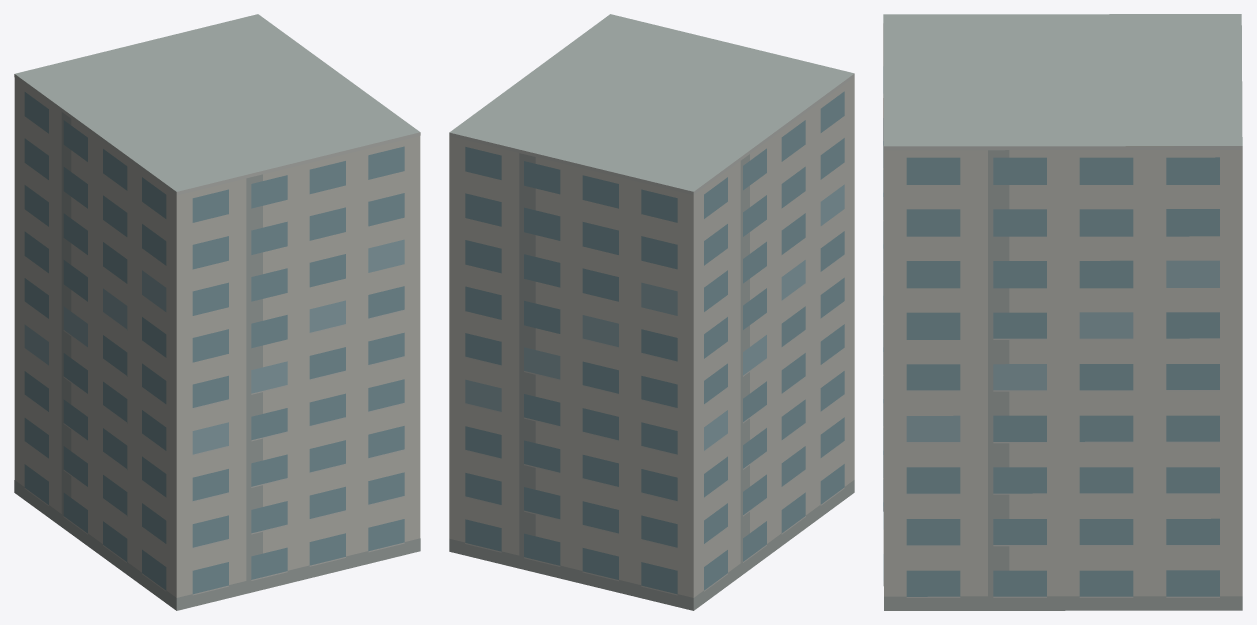
File: residential-f9ac2132-007f-411f-a1be-95be9b9455ac.glb
3 renders of one model, left to right at view 1: azimuth 30°, elevation 25°; view 2: azimuth 150°, elevation 25°; view 3: azimuth 270°, elevation 25°, orthographic. The views are drawn at different scales.
Parts seen in each view (by area): view 1: residential-f9ac2132-007f-411f-a1be-95be9b9455ac.tmp; view 2: residential-f9ac2132-007f-411f-a1be-95be9b9455ac.tmp; view 3: residential-f9ac2132-007f-411f-a1be-95be9b9455ac.tmp.
Part boxes in pixels (<box>): residential-f9ac2132-007f-411f-a1be-95be9b9455ac.tmp: <box>14,14,420,610</box>; residential-f9ac2132-007f-411f-a1be-95be9b9455ac.tmp: <box>449,14,854,610</box>; residential-f9ac2132-007f-411f-a1be-95be9b9455ac.tmp: <box>883,14,1242,610</box>.
Bounding box in the file's own units: 17.74 × 29 × 20.34.
